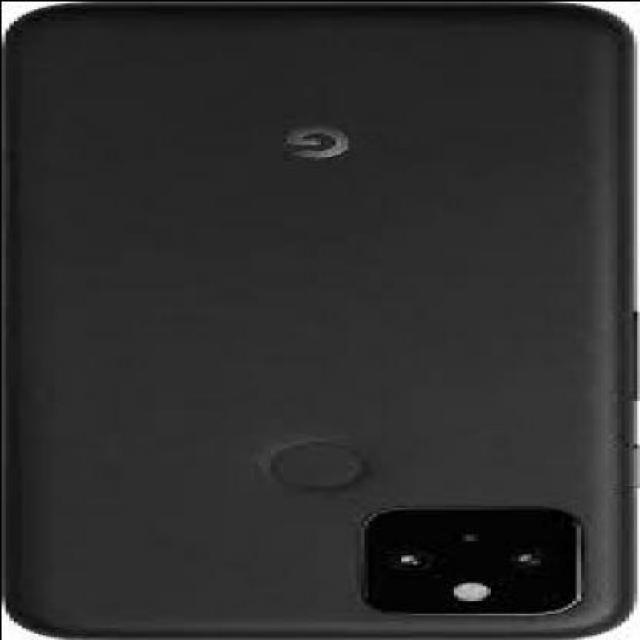fake: (4, 4, 636, 638)
